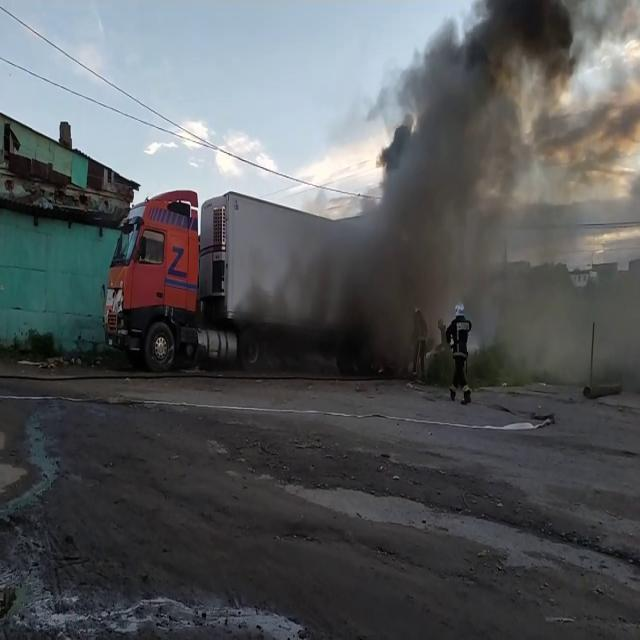Smoke: (364, 0, 582, 372), (229, 178, 427, 378)
